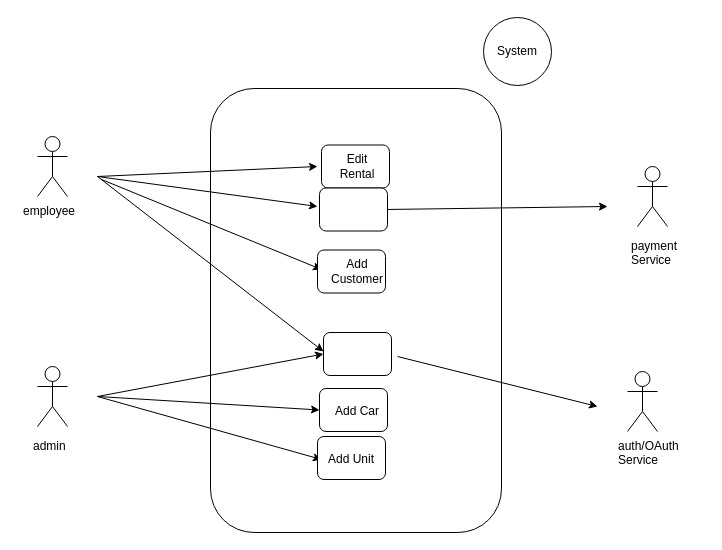
This 722x550 diagram has some shape labels left out. The centre of each missing label's shape, as x and y in pixels:
Add Rental: the point at 353,209
Log into System: the point at 357,354
